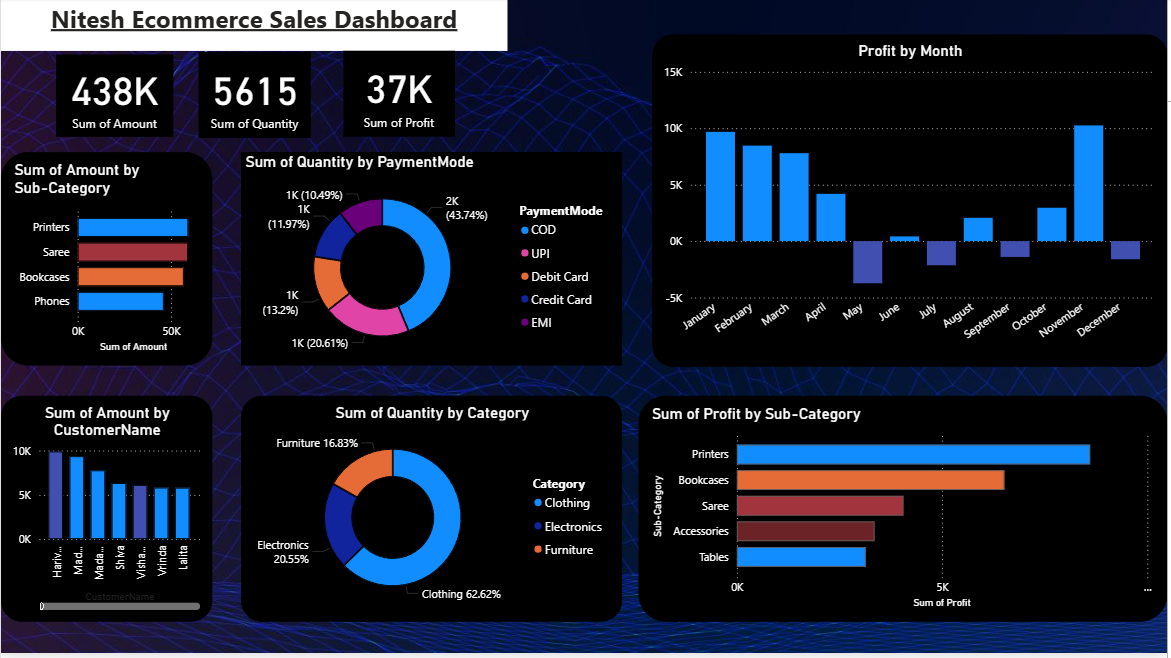

The page's visual inventory and layout, read from the dashboard file:
{"tool":"powerbi","page":{"name":"Page 1","canvas":[1280,720],"ordinal":0},"visuals":[{"type":"textbox","box":[0,0,555.7,59],"z":0},{"type":"columnChart","title":"Profit by Month","fields":{"Y":["Details.Profit"],"Category":["Orders.Order Date.Variation.Date Hierarchy.Month"]},"box":[714.9,87.8,565.4,318.4],"z":1000},{"type":"barChart","fields":{"Category":["Details.Sub-Category"],"Y":["Details.Profit"]},"box":[699.8,437.7,580.4,248.4],"z":2000},{"type":"donutChart","title":"Sum of Quantity by Category","fields":{"Category":["Details.Category"],"Y":["Details.Quantity","Details.Quantity"]},"box":[263.5,437.7,418.5,248.4],"z":3000},{"type":"donutChart","fields":{"Category":["Details.PaymentMode"],"Y":["Details.Quantity"]},"box":[263.5,170.2,418.5,234.6],"z":4000},{"type":"card","fields":{"Values":["Details.Amount"]},"box":[60.4,63.1,129,90.6],"z":5000},{"type":"card","fields":{"Values":["Details.Quantity"]},"box":[216.8,60.4,123.5,94.7],"z":6000},{"type":"card","fields":{"Values":["Details.Profit"]},"box":[376,59,122.1,94.7],"z":7000},{"type":"barChart","fields":{"Category":["Details.Sub-Category"],"Y":["Details.Amount"]},"box":[0,170.2,231.9,234.6],"z":8000},{"type":"columnChart","fields":{"Y":["Details.Amount"],"Category":["Orders.CustomerName"]},"box":[0,437.7,231.9,248.4],"z":9000},{"type":"slicer","fields":{"Values":["Orders.Order Date.Variation.Date Hierarchy.Quarter"]},"box":[577.7,0,413,70],"z":10000}]}

Visuals, with their boxes in screenshot pixels (x1, y1, x2, y2), scaled from the page's 1280x720 canvas onto the 1171x658 screenshot:
textbox: (left=0, top=0, right=508, bottom=54)
"Profit by Month" columnChart: (left=654, top=80, right=1170, bottom=371)
barChart - Details.Sub-Category x Details.Profit: (left=640, top=400, right=1170, bottom=627)
"Sum of Quantity by Category" donutChart: (left=241, top=400, right=624, bottom=627)
donutChart - Details.PaymentMode x Details.Quantity: (left=241, top=156, right=624, bottom=370)
card - Details.Amount: (left=55, top=58, right=173, bottom=140)
card - Details.Quantity: (left=198, top=55, right=311, bottom=142)
card - Details.Profit: (left=344, top=54, right=456, bottom=140)
barChart - Details.Sub-Category x Details.Amount: (left=0, top=156, right=212, bottom=370)
columnChart - Details.Amount x Orders.CustomerName: (left=0, top=400, right=212, bottom=627)
slicer - Orders.Order Date.Variation.Date Hierarchy.Quarter: (left=529, top=0, right=906, bottom=64)
